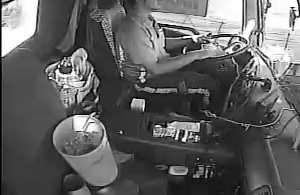paper: (167, 121, 201, 133)
